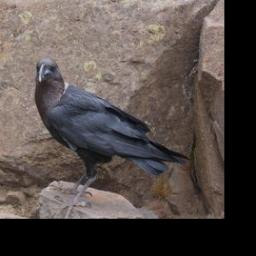Crow: (35, 56, 191, 218)
